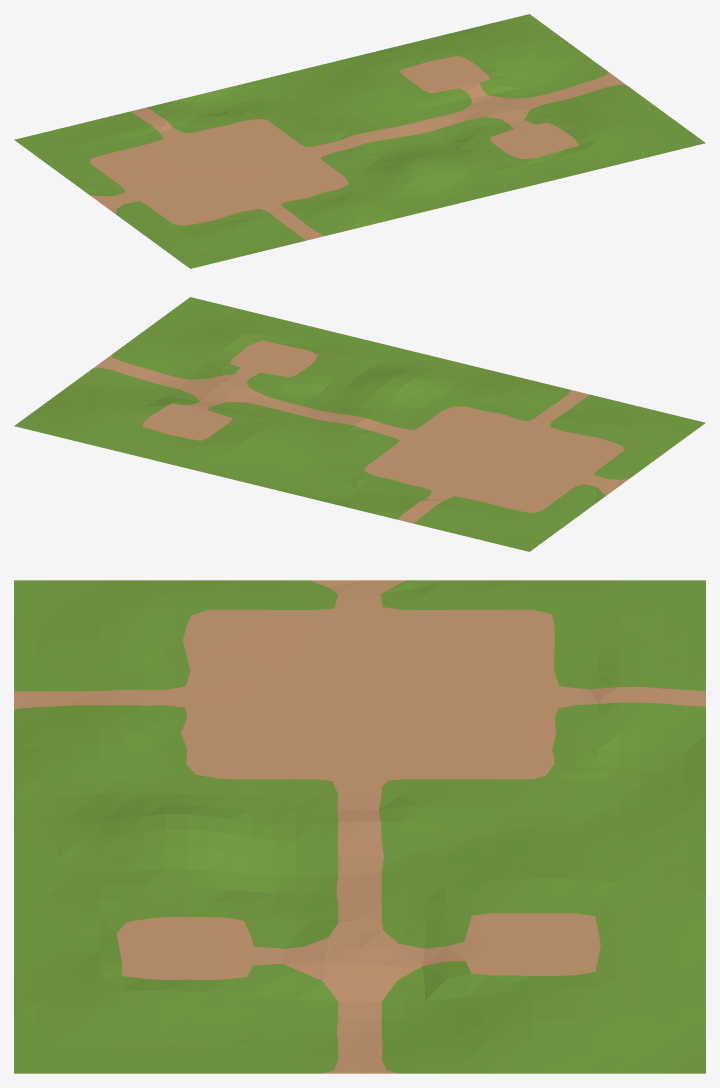
File: SM_Floor_Park_02.fbx
3 renders of one model, top to bottom at view 1: azimuth 30°, elevation 25°; view 2: azimuth 150°, elevation 25°; view 3: azimuth 270°, elevation 25°, orthographic. The views are drawn at different scales.
Visible parts, largest first — view 1: SM_Floor_Park_02; view 2: SM_Floor_Park_02; view 3: SM_Floor_Park_02.
Boxes of the visible parts, bbox=[...] form: SM_Floor_Park_02: bbox=[14, 14, 705, 268]; SM_Floor_Park_02: bbox=[14, 297, 705, 551]; SM_Floor_Park_02: bbox=[14, 580, 705, 1073].
Bounding box in the file's own units: 67.5 × 1.3 × 40.
